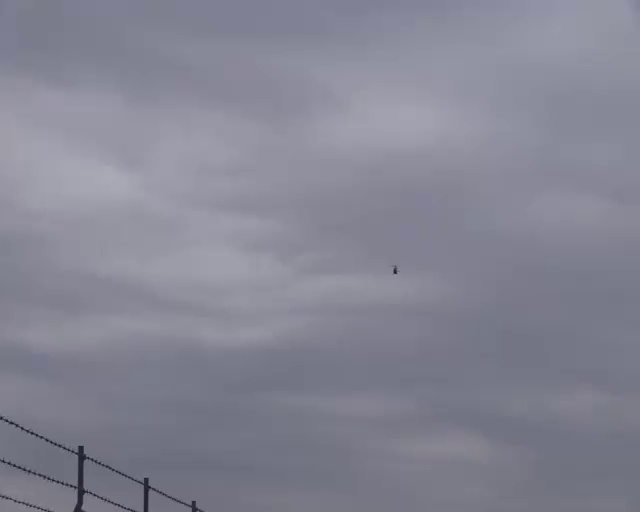HELICOPTER: (391, 265, 399, 274)
